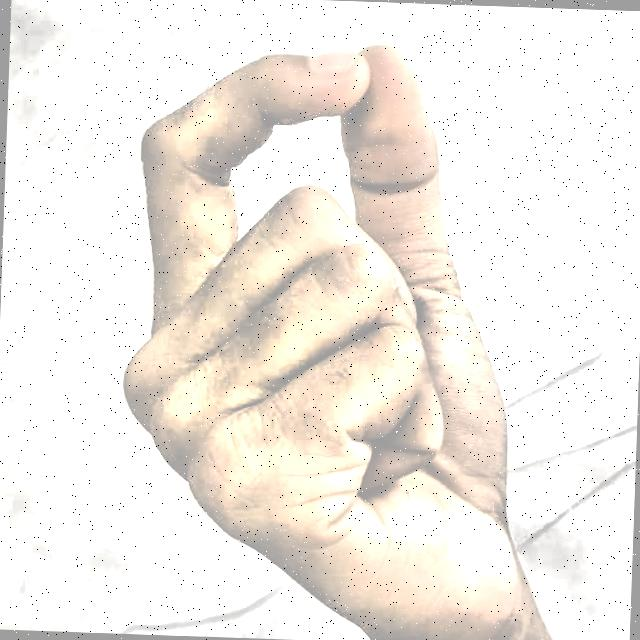Gha: (74, 21, 588, 640)
